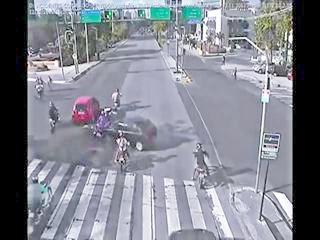Car: (111, 118, 155, 147), (74, 95, 100, 125)
Minor Accident: (93, 109, 156, 148)
Motor: (188, 143, 210, 189), (111, 129, 131, 172), (31, 177, 51, 220), (93, 110, 112, 140), (48, 102, 60, 132), (34, 77, 44, 100), (113, 89, 121, 112)
